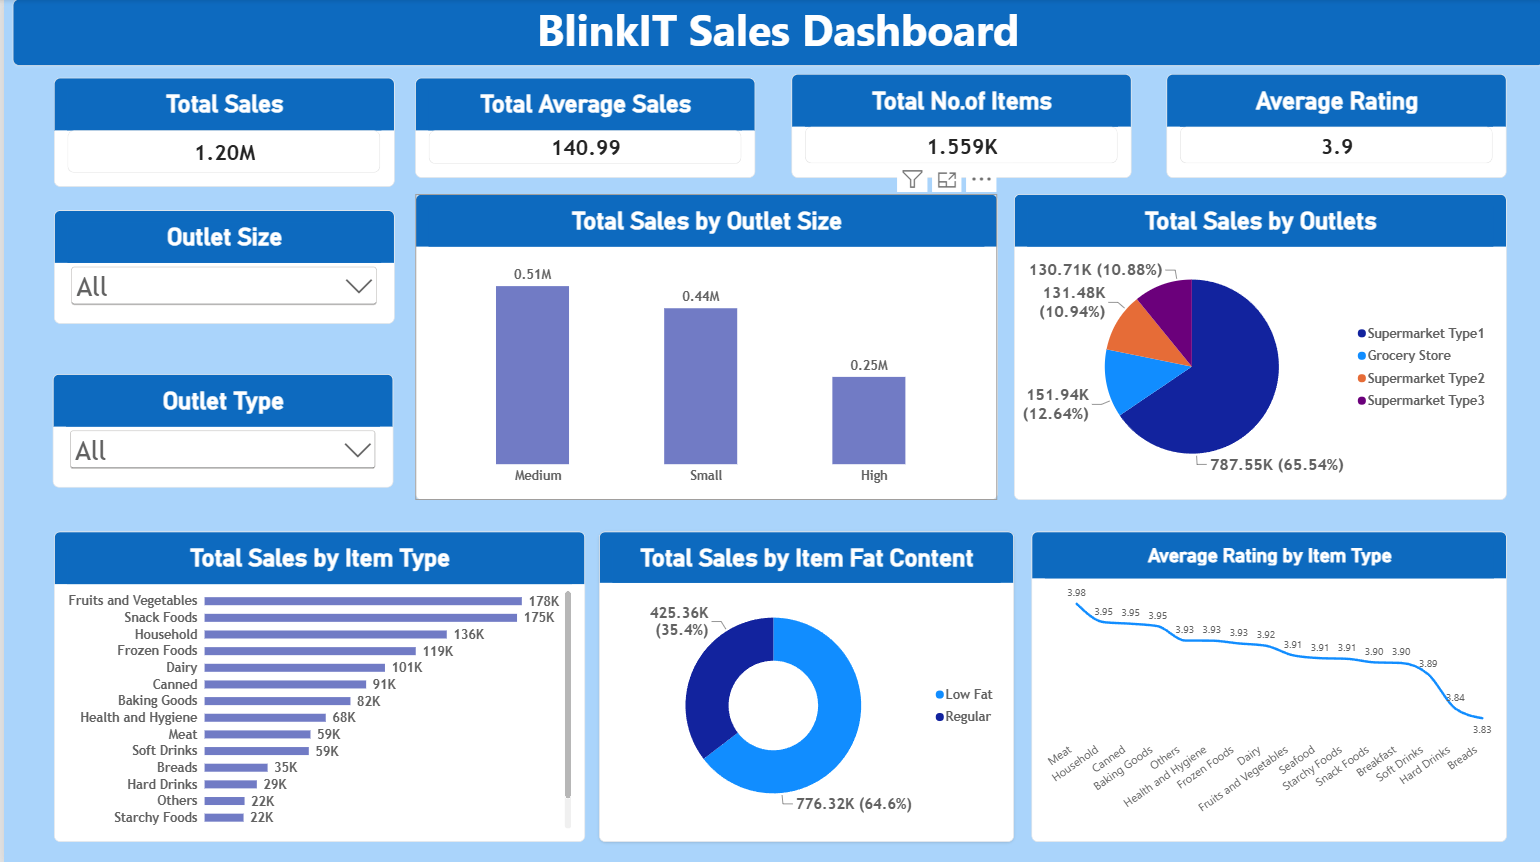

The dashboard page shown, as its layout file describes it:
{"tool":"powerbi","page":{"name":"Page 1","canvas":[1920,1080],"ordinal":0},"visuals":[{"type":"textbox","box":[10.7,0,1909.3,83.2],"z":0},{"type":"cardVisual","title":"Total Sales","fields":{"Data":["Measures Table.Total Sales"]},"box":[62.4,98.2,424.5,136.2],"z":1000},{"type":"cardVisual","title":"Total Average Sales","fields":{"Data":["Measures Table.Average Sales"]},"box":[512.9,98.2,424,124.7],"z":2000},{"type":"cardVisual","title":"Total No.of Items","fields":{"Data":["Count(BlinkIT Grocery Data.Item Identifier)"]},"box":[982.1,93.5,424,129.4],"z":3000},{"type":"cardVisual","title":"Average Rating","fields":{"Data":["Avg(BlinkIT Grocery Data.Rating)"]},"box":[1449.8,93.5,424,129.4],"z":4000},{"type":"pieChart","title":"Total Sales by Outlets","fields":{"Category":["BlinkIT Grocery Data.Outlet Type"],"Y":["Measures Table.Total Sales"]},"box":[1260.1,242.9,614,381.8],"z":5000},{"type":"columnChart","title":"Total Sales by Outlet Size","fields":{"Category":["BlinkIT Grocery Data.Outlet Size"],"Y":["Measures Table.Total Sales"]},"box":[512.6,242.9,726.2,381.8],"z":6000},{"type":"slicer","title":"Outlet Size","fields":{"Values":["BlinkIT Grocery Data.Outlet Size"]},"box":[62.4,263.5,424.5,141.5],"z":7000},{"type":"slicer","title":"Outlet Type","fields":{"Values":["BlinkIT Grocery Data.Outlet Type"]},"box":[61.4,467.2,424.5,141.5],"z":8000},{"type":"barChart","title":"Total Sales by Item Type","fields":{"Category":["BlinkIT Grocery Data.Item Type"],"Y":["Measures Table.Total Sales"]},"box":[62.8,664.4,662.2,387.4],"z":9000},{"type":"donutChart","fields":{"Category":["BlinkIT Grocery Data.Item Fat Content"],"Y":["Measures Table.Total Sales"]},"box":[742.3,664.4,517.2,387.4],"z":9001},{"type":"lineChart","title":"Average Rating by Item Type","fields":{"Category":["BlinkIT Grocery Data.Item Type"],"Y":["Avg(BlinkIT Grocery Data.Rating)"]},"box":[1281.2,664.4,593,387.4],"z":9002}]}

Visuals, with their boxes in screenshot pixels (x1, y1, x2, y2), scaled from the page's 1920x1080 canvas onto the 1540x862 screenshot:
textbox: {"left": 9, "top": 0, "right": 1539, "bottom": 66}
"Total Sales" cardVisual: {"left": 50, "top": 78, "right": 391, "bottom": 187}
"Total Average Sales" cardVisual: {"left": 411, "top": 78, "right": 751, "bottom": 178}
"Total No.of Items" cardVisual: {"left": 788, "top": 75, "right": 1128, "bottom": 178}
"Average Rating" cardVisual: {"left": 1163, "top": 75, "right": 1503, "bottom": 178}
"Total Sales by Outlets" pieChart: {"left": 1011, "top": 194, "right": 1503, "bottom": 499}
"Total Sales by Outlet Size" columnChart: {"left": 411, "top": 194, "right": 994, "bottom": 499}
"Outlet Size" slicer: {"left": 50, "top": 210, "right": 391, "bottom": 323}
"Outlet Type" slicer: {"left": 49, "top": 373, "right": 390, "bottom": 486}
"Total Sales by Item Type" barChart: {"left": 50, "top": 530, "right": 582, "bottom": 839}
donutChart - BlinkIT Grocery Data.Item Fat Content x Measures Table.Total Sales: {"left": 595, "top": 530, "right": 1010, "bottom": 839}
"Average Rating by Item Type" lineChart: {"left": 1028, "top": 530, "right": 1503, "bottom": 839}
